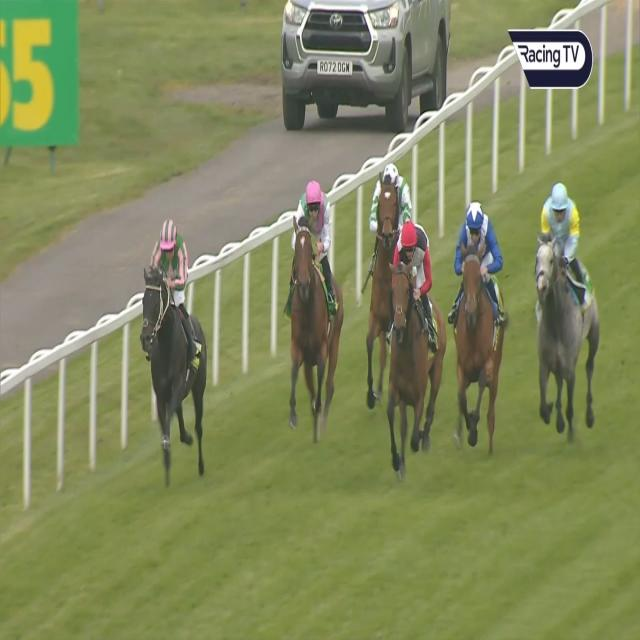horses-racing: (536, 175, 608, 433), (142, 222, 214, 474), (286, 180, 342, 442), (453, 200, 503, 444), (390, 230, 437, 435), (364, 157, 412, 338)
